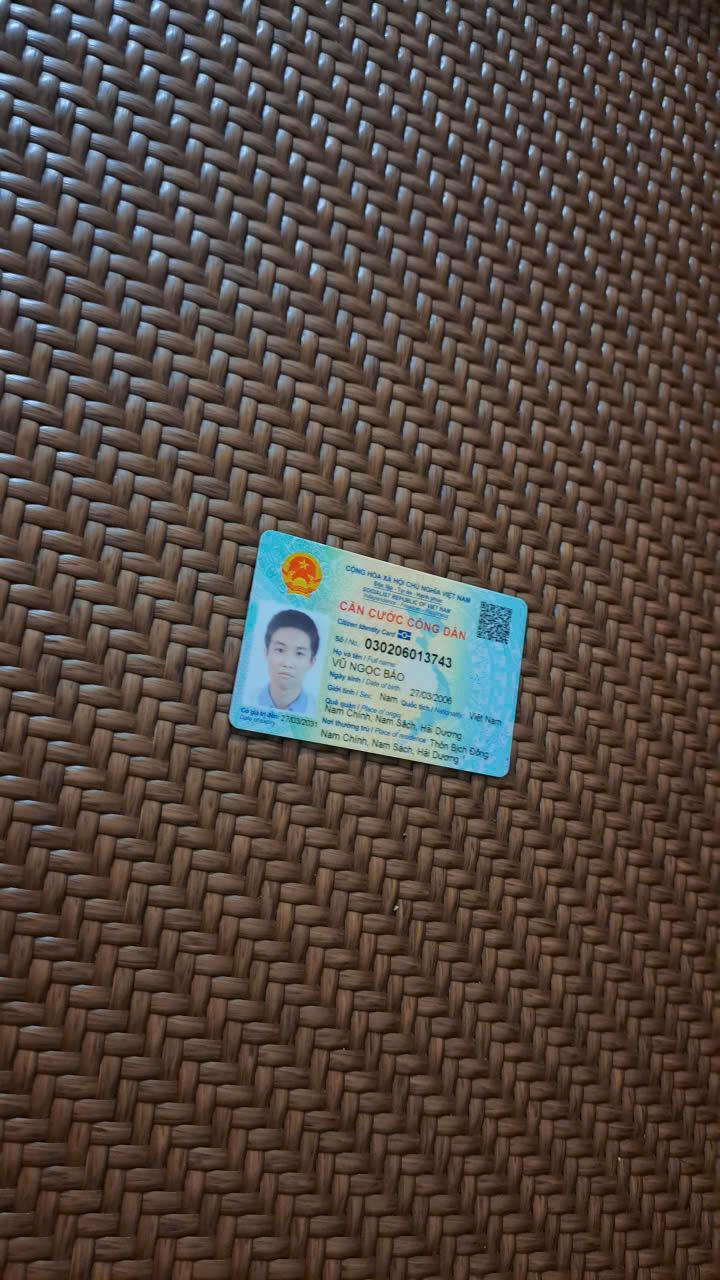cccd: (222, 527, 537, 784)
